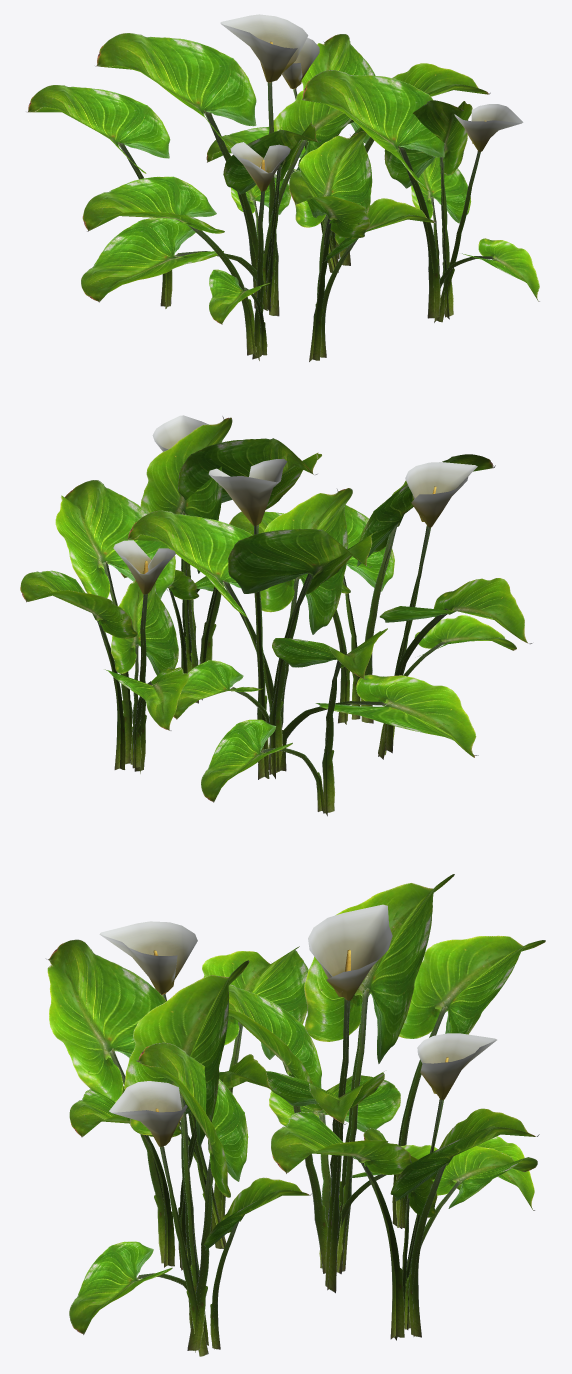
Rendered from Plant_waterLilly003.fbx.
The picture shows the model from 3 angles, top to bottom: view 1: azimuth 30°, elevation 25°; view 2: azimuth 150°, elevation 25°; view 3: azimuth 270°, elevation 25°; orthographic projection. The views are drawn at different scales.
Parts seen in each view (by area): view 1: Plant_waterLilly003; view 2: Plant_waterLilly003; view 3: Plant_waterLilly003.
Boxes of the visible parts, x1,y1,x2,y2 form: Plant_waterLilly003: [27, 14, 539, 361]; Plant_waterLilly003: [20, 415, 532, 816]; Plant_waterLilly003: [45, 874, 545, 1356].
Bounding box in the file's own units: 215 × 135 × 182.
